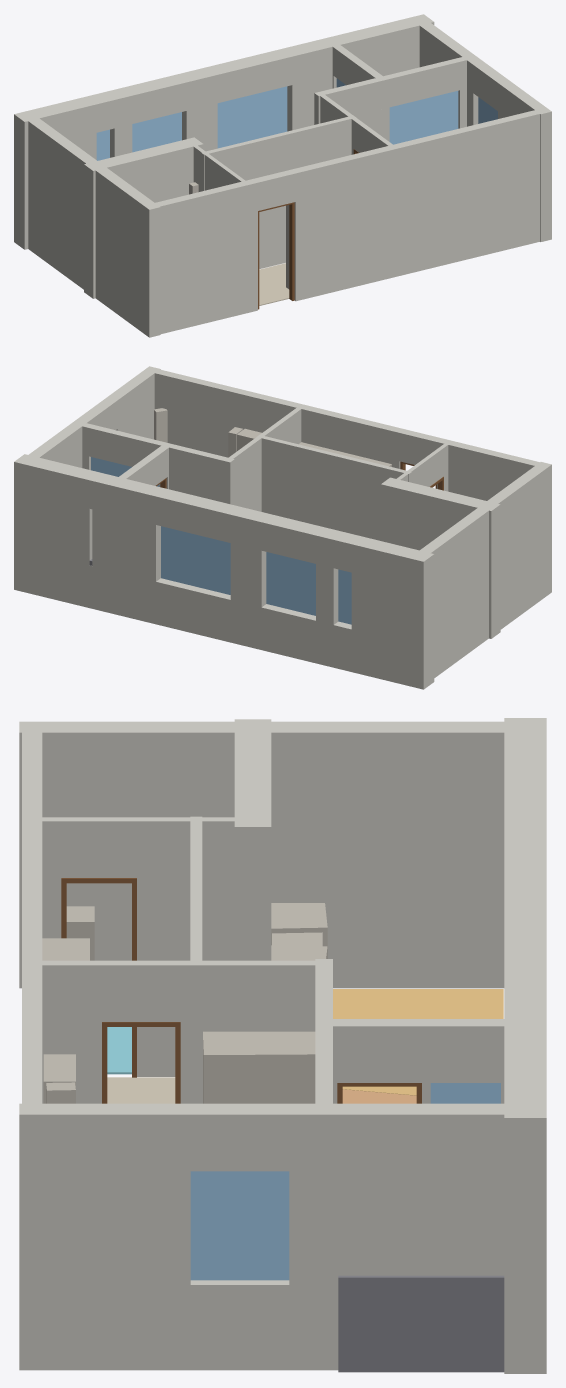
3 views of the same model, one above another, from view 1: azimuth 30°, elevation 25°; view 2: azimuth 150°, elevation 25°; view 3: azimuth 270°, elevation 25° (orthographic). The views are drawn at different scales.
Visible parts, largest first — view 1: walls, window_1, window_4, window_0, floor_5_Entry, door_7, window_9; view 2: walls, window_1, window_0, window_9, window_4, furniture_5_closet; view 3: walls, railings, window_2, furniture_0_closet, floor_0_Kitchen, floor_5_Entry, furniture_6_appliance, window_5, door_6, door_8, floor_4_Bath, furniture_2_closet (+4 smaller).
Boxes of the visible parts, box(x1,y1,x2,y2) form: walls: box(14, 14, 551, 337); window_1: box(217, 86, 287, 148); window_4: box(389, 91, 458, 144); window_0: box(132, 112, 181, 152); floor_5_Entry: box(259, 263, 289, 305); door_7: box(258, 202, 294, 309); window_9: box(96, 129, 109, 160); walls: box(14, 366, 551, 689); window_1: box(161, 526, 230, 594); window_0: box(266, 552, 315, 615); window_9: box(338, 569, 351, 624); window_4: box(91, 457, 159, 486); furniture_5_closet: box(154, 408, 167, 442); walls: box(19, 718, 546, 1373); railings: box(338, 1275, 504, 1372); window_2: box(190, 1171, 289, 1280); furniture_0_closet: box(203, 1031, 315, 1103); floor_0_Kitchen: box(333, 989, 503, 1095); floor_5_Entry: box(107, 1077, 175, 1103); furniture_6_appliance: box(271, 903, 327, 958); window_5: box(430, 1083, 500, 1103); door_6: box(61, 878, 136, 1077); door_8: box(102, 1022, 180, 1103); floor_4_Bath: box(107, 1027, 131, 1074); furniture_2_closet: box(42, 938, 89, 960).
Size of the model in its own units: 9.05 by 2.72 by 5.04.
